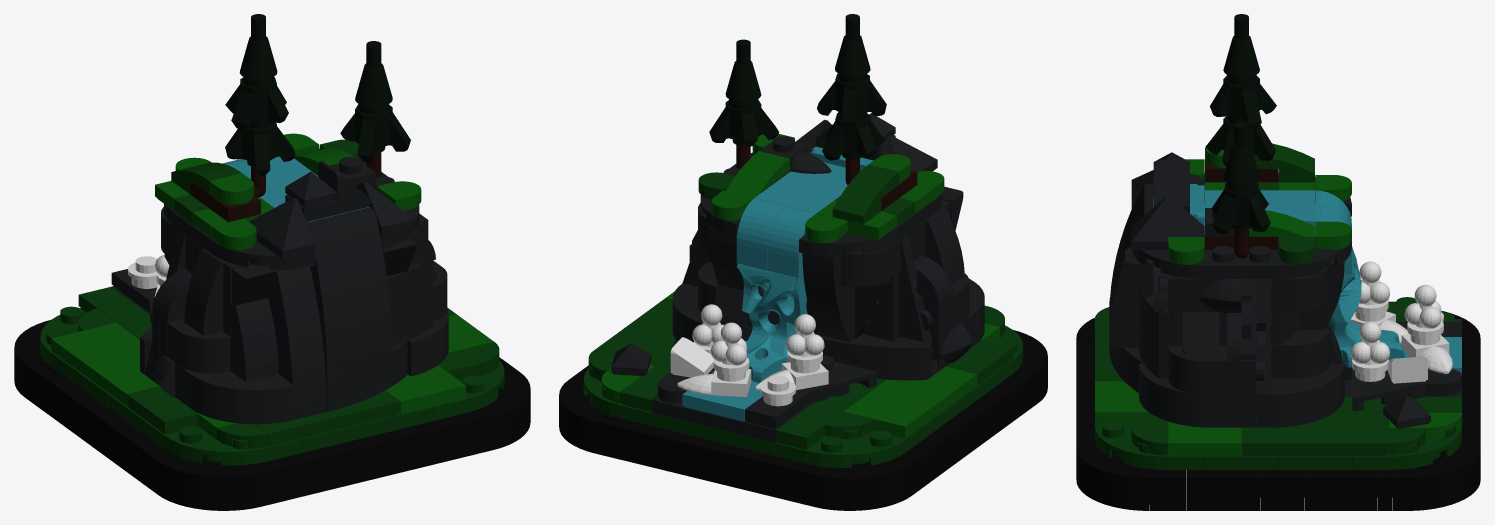
File: Fountaine.FBX
3 renders of one model, left to right at view 1: azimuth 30°, elevation 25°; view 2: azimuth 150°, elevation 25°; view 3: azimuth 270°, elevation 25°, orthographic. The views are drawn at different scales.
Visible parts, largest first — view 1: Fountaine; view 2: Fountaine; view 3: Fountaine.
Boxes of the visible parts, x1,y1,x2,y2 form: Fountaine: (14, 14, 530, 510); Fountaine: (559, 14, 1047, 510); Fountaine: (1076, 14, 1480, 510).
Size of the model in its own units: 3.46 by 3.71 by 3.46.
